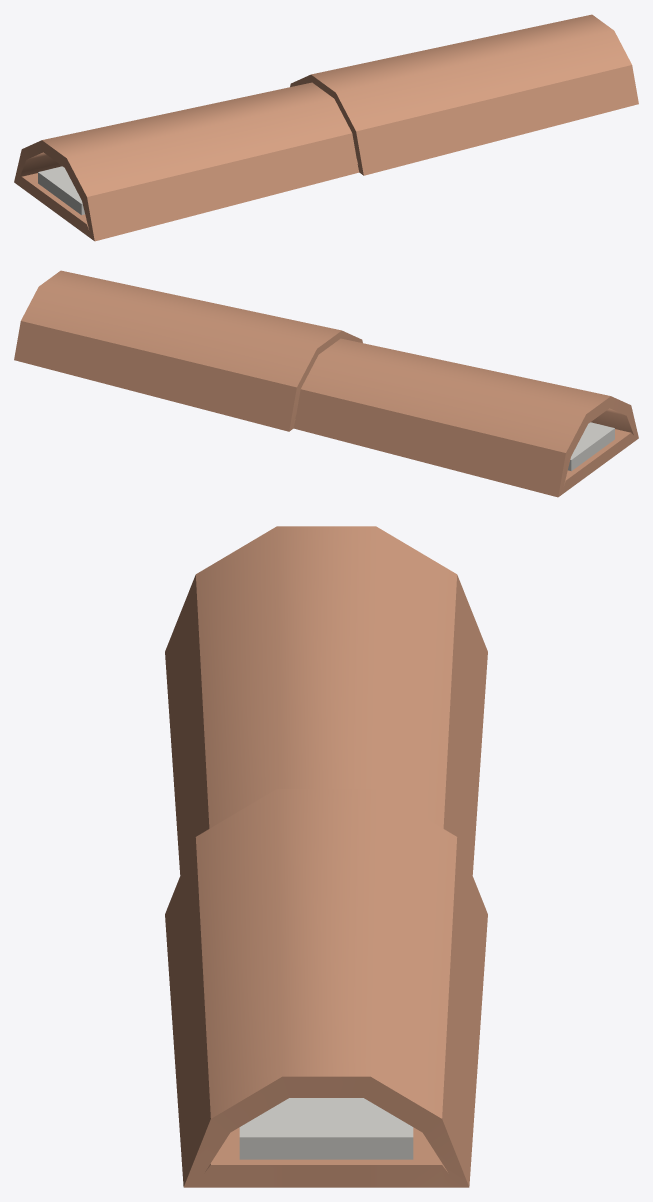
Rendered from faitiere.glb.
3 views of the same model, one above another, from view 1: azimuth 30°, elevation 25°; view 2: azimuth 150°, elevation 25°; view 3: azimuth 270°, elevation 25° (orthographic). The views are drawn at different scales.
Visible parts, largest first — view 1: faitiere; view 2: faitiere; view 3: faitiere.
Boxes of the visible parts, box(x1,y1,x2,y2) form: faitiere: box(14, 14, 638, 241); faitiere: box(14, 270, 638, 497); faitiere: box(165, 526, 487, 1187).
Bounding box in the file's own units: 1.02 × 0.1113 × 0.26.
